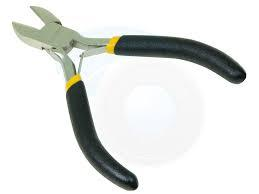pliers: (10, 4, 246, 190)
